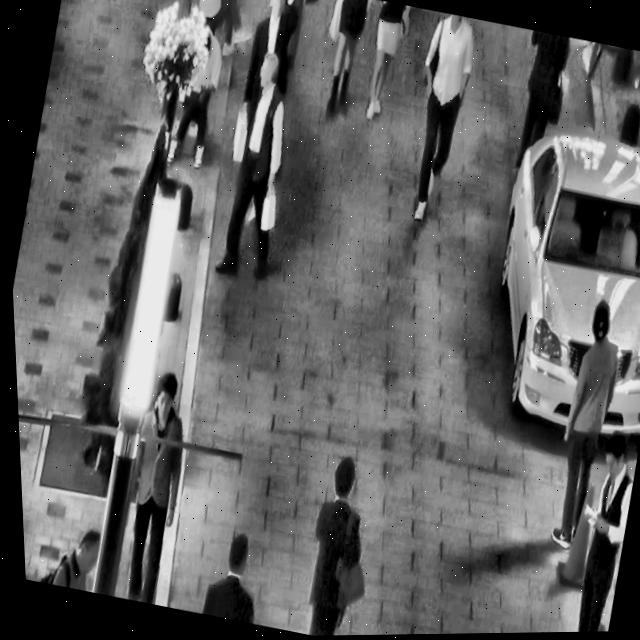light_vehicle: (452, 103, 640, 457)
